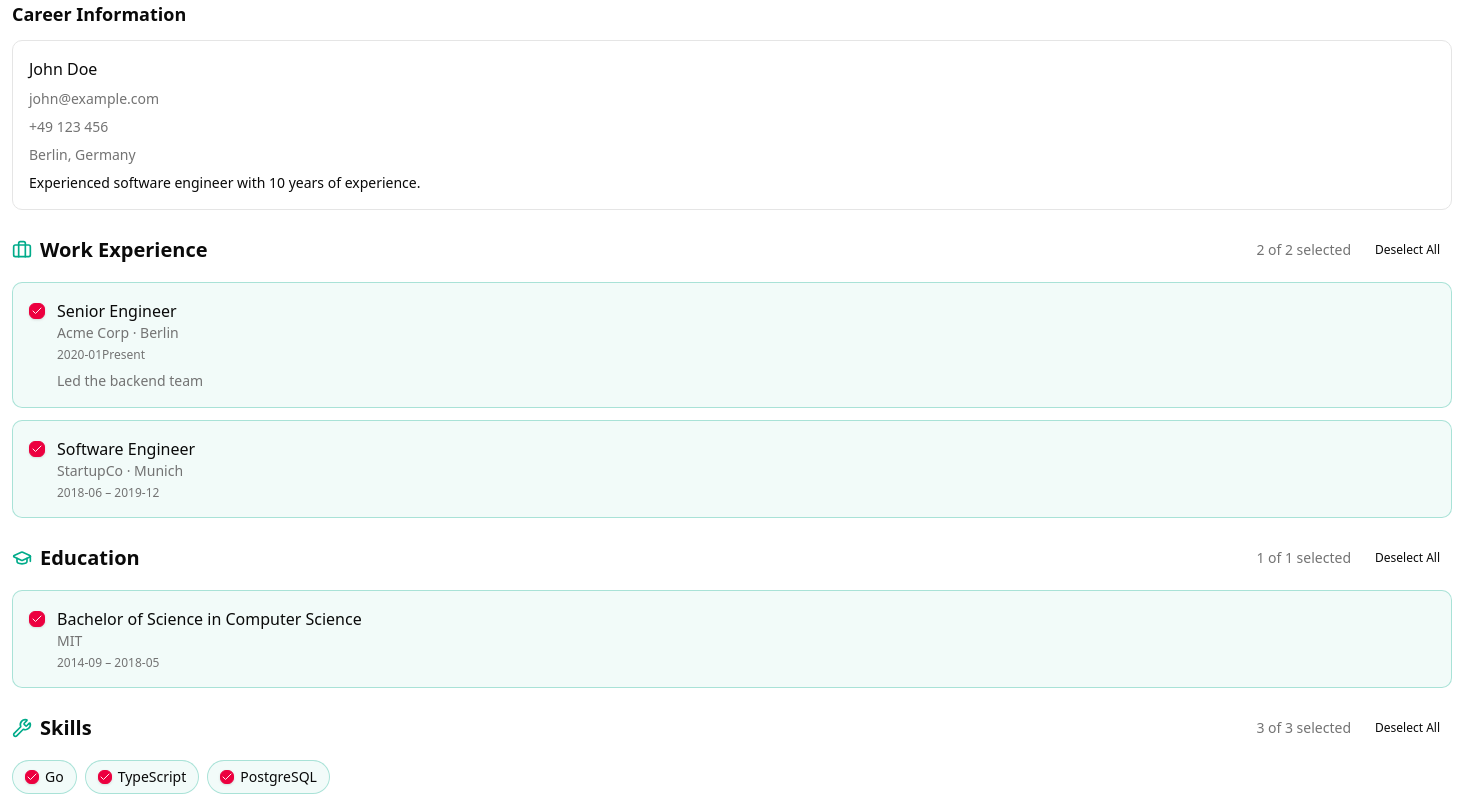
Scenario: ExtractionReview › Selection counter › updates count when items are deselected
// Deselect first experience
Click the checkbox that starts with "Senior Engineer" at (732, 345), box x1=12 y1=282 x2=1452 y2=408
(page scrolled)
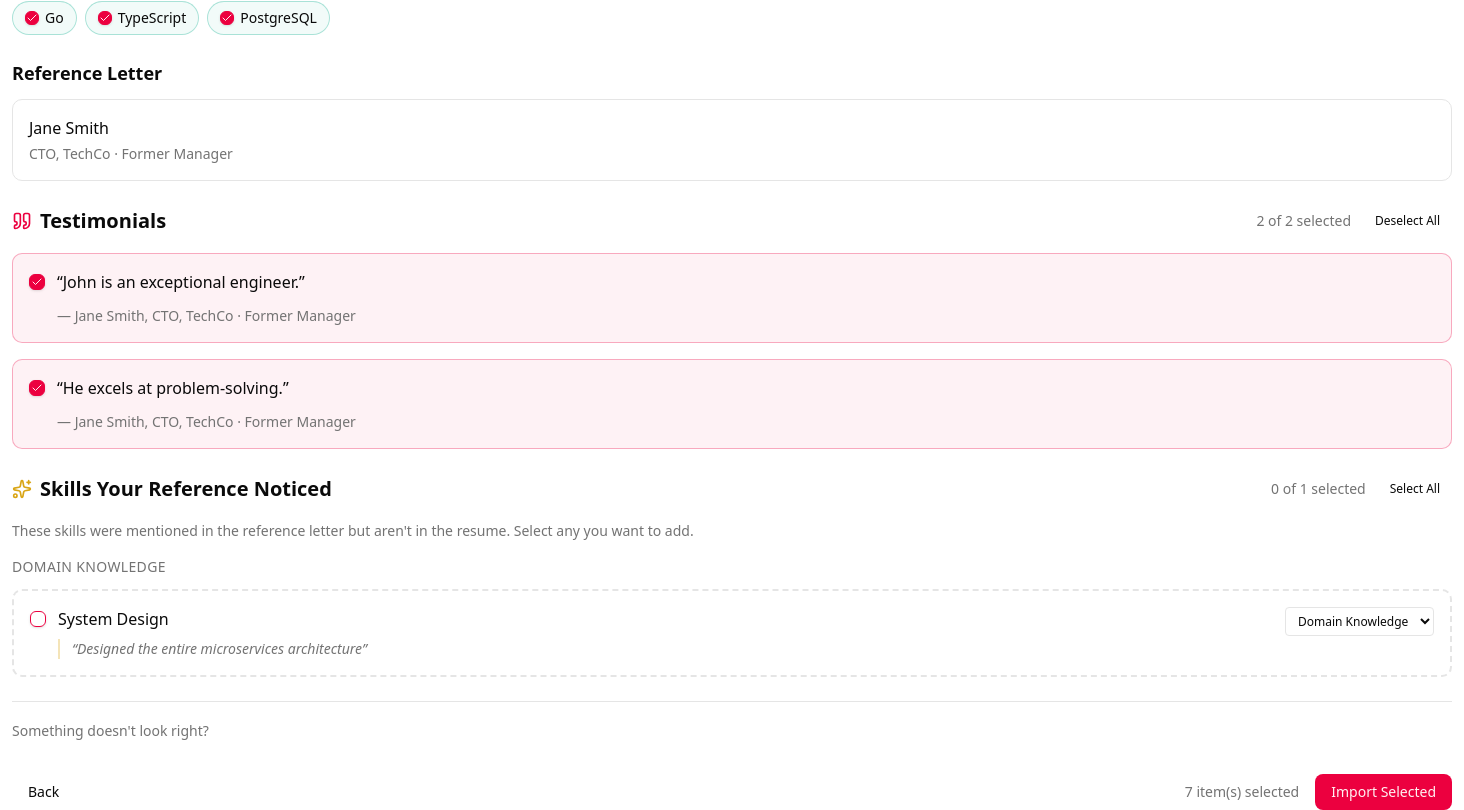
Now the text "7 item(s) selected" is shown, box x1=1185 y1=782 x2=1299 y2=802
